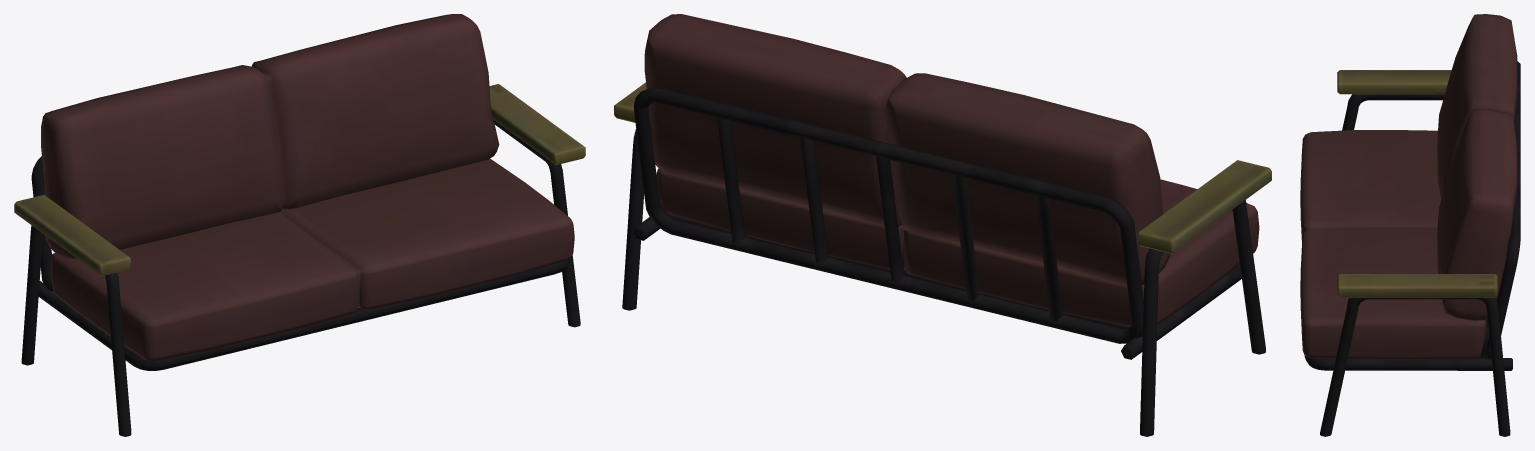
3 views of the same model, side by side, from view 1: azimuth 30°, elevation 25°; view 2: azimuth 150°, elevation 25°; view 3: azimuth 270°, elevation 25° (orthographic). The views are drawn at different scales.
Size of the model in its own units: 19.85 by 9.81 by 8.47.
Materials: 1 (1 with a texture image).
